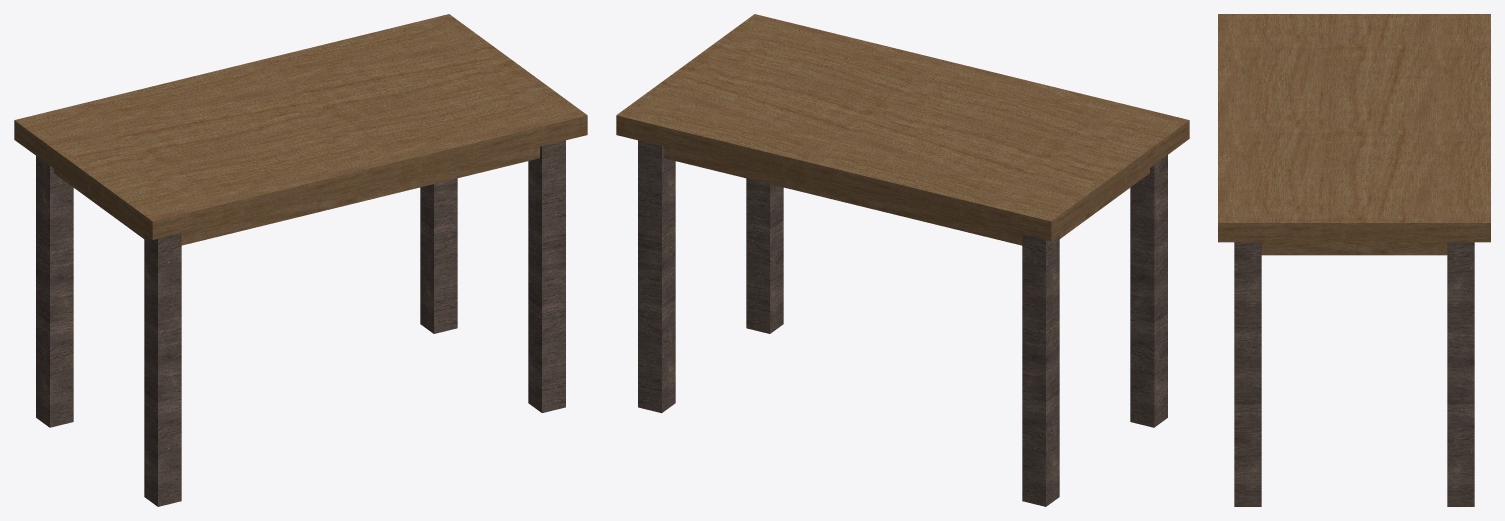
File: table.glb
The picture shows the model from 3 angles, left to right: view 1: azimuth 30°, elevation 25°; view 2: azimuth 150°, elevation 25°; view 3: azimuth 270°, elevation 25°; orthographic projection.
Parts seen in each view (by area): view 1: Mesa.005; view 2: Mesa.005; view 3: Mesa.005.
Boxes of the visible parts, left/top/right/bottom form: Mesa.005: left=14, top=14, right=587, bottom=506; Mesa.005: left=616, top=14, right=1189, bottom=506; Mesa.005: left=1218, top=14, right=1490, bottom=506.
Bounding box in the file's own units: 2.84 × 1.84 × 1.57.
2 materials, 2 textured.
